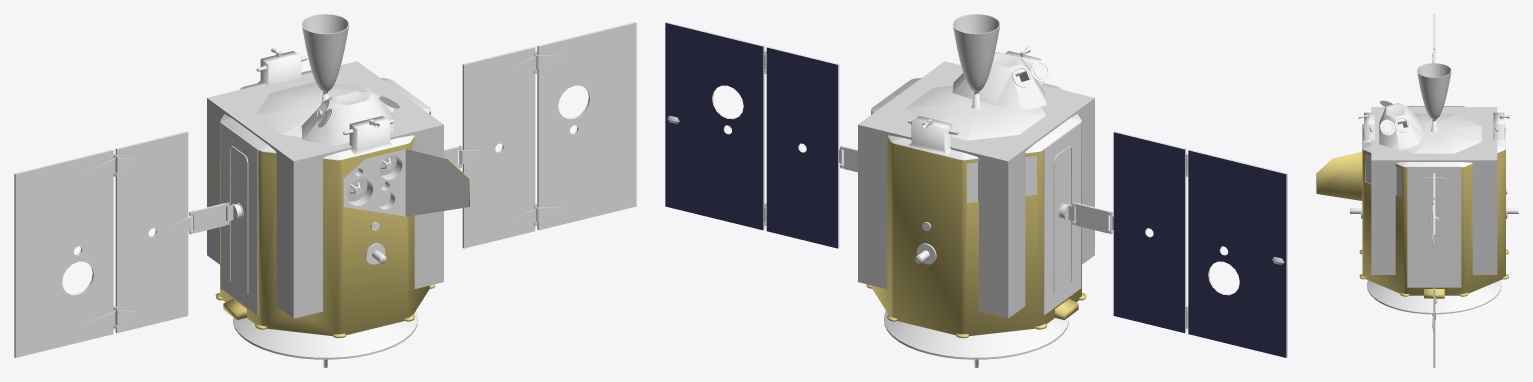
Rendered from Clementine.glb.
3 views of the same model, side by side, from view 1: azimuth 30°, elevation 25°; view 2: azimuth 150°, elevation 25°; view 3: azimuth 270°, elevation 25° (orthographic). The views are drawn at different scales.
Visible parts, largest first — view 1: tex_01, _root, foil_gold, foil_white, AO_dish, AO_hinges; view 2: shiny_panel, foil_gold, _root, tex_01, foil_white, AO_dish, AO_hinges; view 3: tex_01, _root, foil_gold, foil_white, AO_dish.
Part boxes in pixels (<box>): tex_01: <box>14,14,636,357</box>; _root: <box>207,61,443,318</box>; foil_gold: <box>215,111,469,338</box>; foil_white: <box>220,51,430,160</box>; AO_dish: <box>233,243,417,367</box>; AO_hinges: <box>85,51,566,328</box>; shiny_panel: <box>665,23,1286,357</box>; foil_gold: <box>866,111,1086,338</box>; _root: <box>858,61,1094,318</box>; tex_01: <box>665,14,1287,357</box>; foil_white: <box>871,51,1081,160</box>; AO_dish: <box>884,243,1068,367</box>; AO_hinges: <box>764,51,1188,328</box>; tex_01: <box>1358,14,1509,367</box>; _root: <box>1371,107,1497,274</box>; foil_gold: <box>1316,149,1508,298</box>; foil_white: <box>1362,103,1505,167</box>; AO_dish: <box>1350,203,1518,319</box>.
Bounding box in the file's own units: 4.13 × 2.18 × 1.6.
